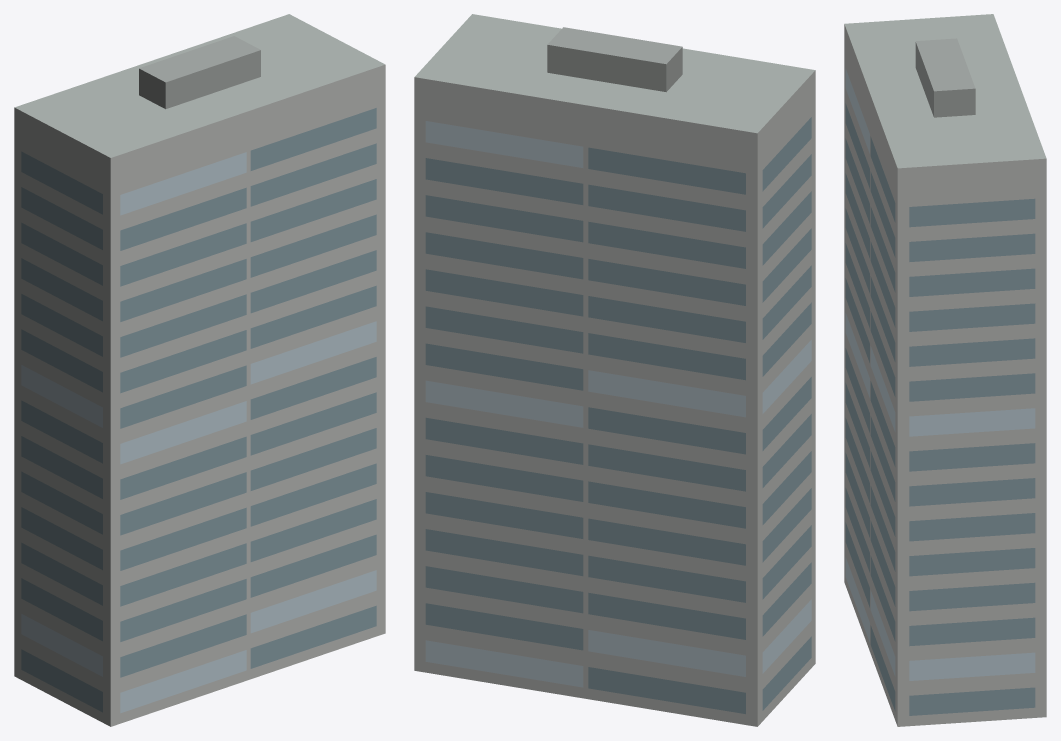
The model's file is fallback-dmc-parkview-xi-completion-211.glb.
The picture shows the model from 3 angles, left to right: view 1: azimuth 30°, elevation 25°; view 2: azimuth 150°, elevation 25°; view 3: azimuth 270°, elevation 25°; orthographic projection. The views are drawn at different scales.
Visible parts, largest first — view 1: fallback-dmc-parkview-xi-completion-211; view 2: fallback-dmc-parkview-xi-completion-211; view 3: fallback-dmc-parkview-xi-completion-211.
Part boxes in pixels (x1,y1,x2,y2): fallback-dmc-parkview-xi-completion-211: (14,14,385,726); fallback-dmc-parkview-xi-completion-211: (414,14,815,726); fallback-dmc-parkview-xi-completion-211: (844,14,1046,726).
Size of the model in its own units: 26.05 by 46 by 14.42.
